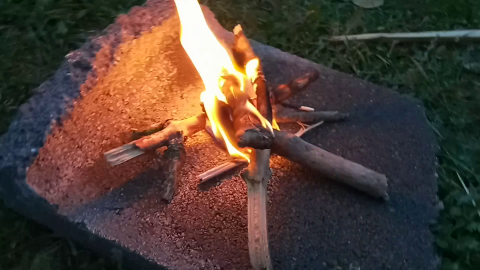fire: (172, 1, 274, 160)
